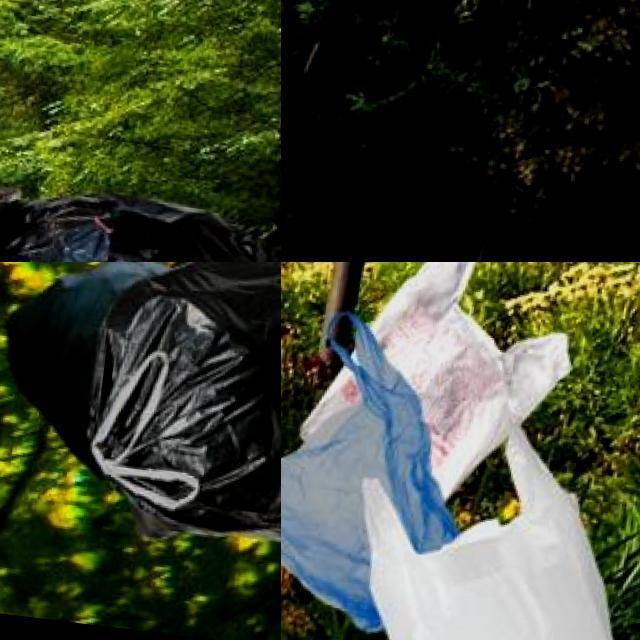waste: (332, 410, 640, 640), (281, 311, 487, 631), (305, 262, 583, 479), (79, 262, 281, 553), (0, 172, 272, 262), (36, 206, 107, 262)
